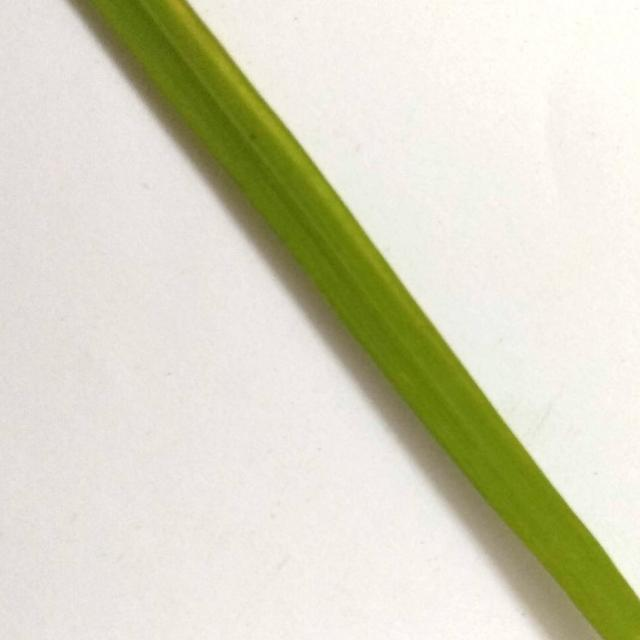Rice_Healthy: (89, 0, 640, 640)
